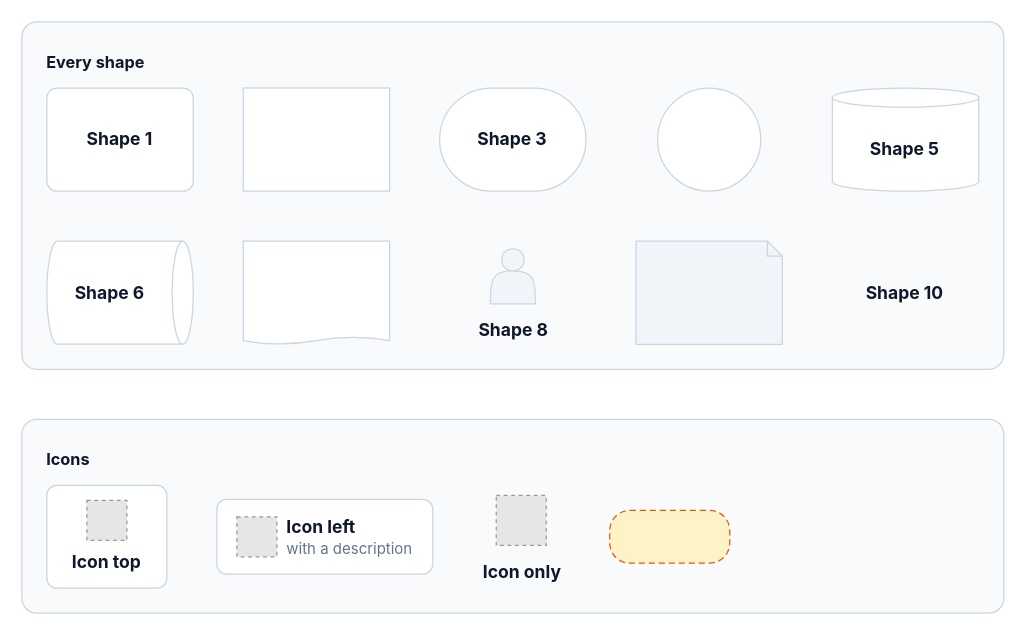
Image size: 1026x635. Some labels were removed from this diagram. Grey dashed boxes stand in for pictures. Each missing label, with the centre of its shape:
"Shape 2" belongs at (x=316, y=139).
"Shape 4" belongs at (x=708, y=139).
"Shape 7" belongs at (x=316, y=292).
"Shape 9" belongs at (x=708, y=292).
"Styled" belongs at (x=669, y=536).
